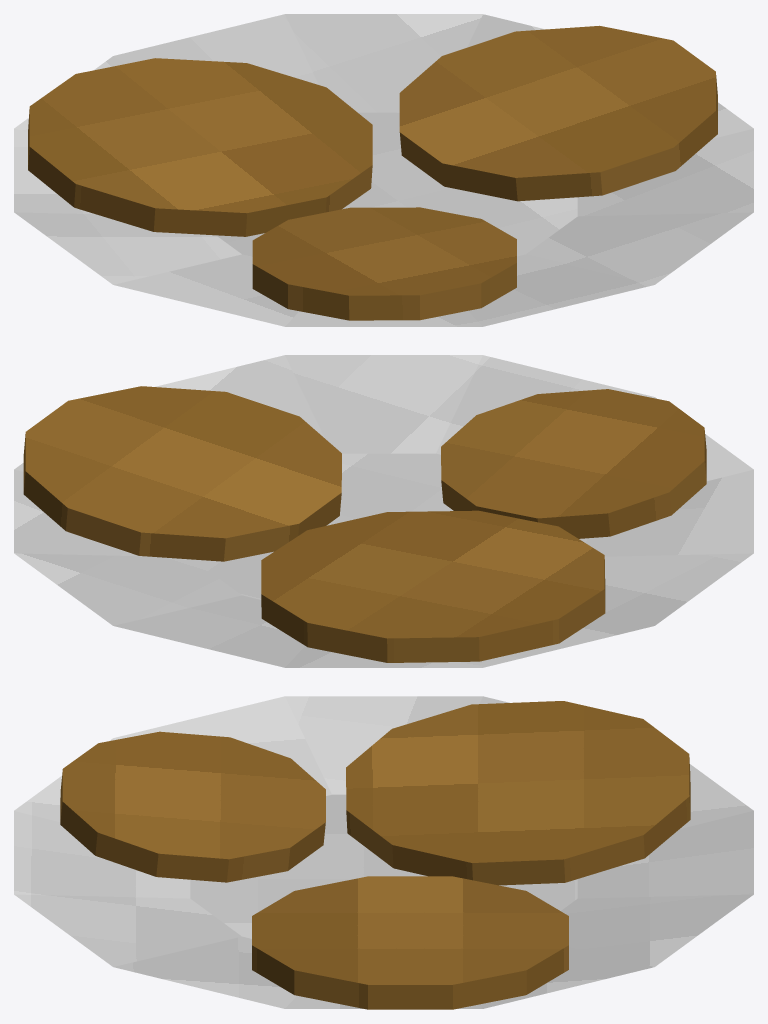
The model's file is fish&chips 1.fbx.
3 renders of one model, top to bottom at view 1: azimuth 30°, elevation 25°; view 2: azimuth 150°, elevation 25°; view 3: azimuth 270°, elevation 25°, orthographic.
Visible parts, largest first — view 1: plate, cylinder, cylinder_1, cylinder_2; view 2: plate, cylinder_1, cylinder, cylinder_2; view 3: plate, cylinder, cylinder_1, cylinder_2.
Part boxes in pixels (<box>): plate: <box>14,14,753,326</box>; cylinder: <box>28,58,372,236</box>; cylinder_1: <box>399,25,717,201</box>; cylinder_2: <box>252,207,516,320</box>; plate: <box>14,355,753,667</box>; cylinder_1: <box>23,386,341,561</box>; cylinder: <box>261,510,605,662</box>; cylinder_2: <box>441,389,706,538</box>; plate: <box>14,696,753,1008</box>; cylinder: <box>346,701,690,885</box>; cylinder_1: <box>252,876,568,1009</box>; cylinder_2: <box>60,731,325,882</box>.
Size of the model in its own units: 44.12 by 5.59 by 43.75.
Materials: 2 (2 with a texture image).
